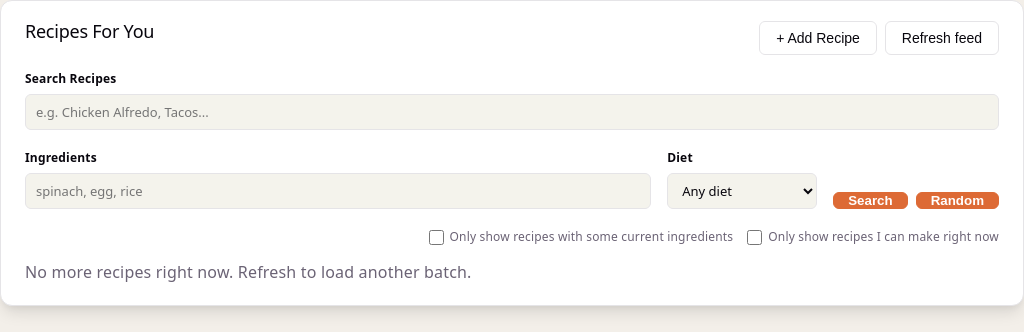
RecipesPanel › handles onlyMakeNow mutually excluding onlyCurrentIngredients
The image size is (1024, 332).
Click the checkbox labelled "Only show recipes with some current ingredients".
click(436, 237)  # box [428,230,444,245]
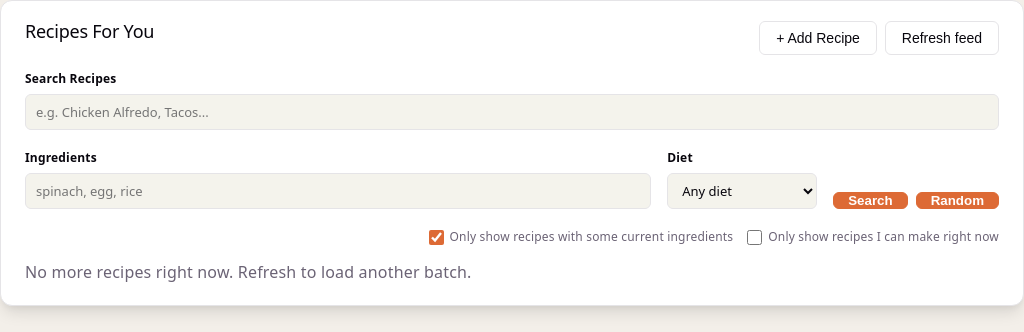
Expected: the checkbox labelled "Only show recipes with some current ingredients" is checked, [428,230,444,245]
Click the checkbox labelled "Only show recipes I can make right now".
click(755, 237)  # box [747,230,762,245]
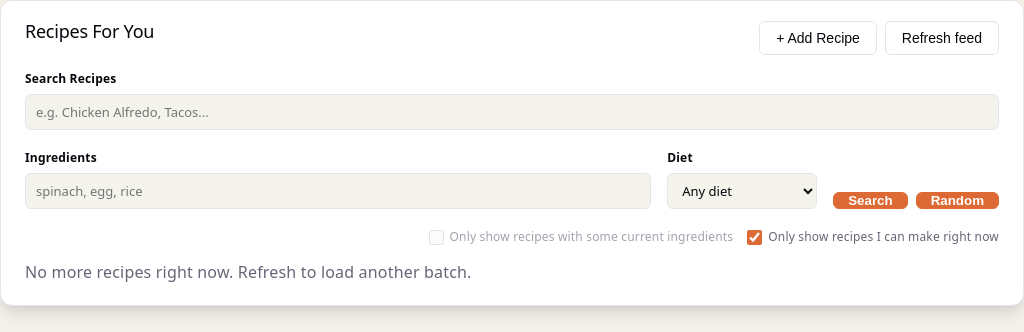
Expected: the checkbox labelled "Only show recipes I can make right now" is checked, [747,230,762,245]
Expected: the checkbox labelled "Only show recipes with some current ingredients" is not checked, [428,230,444,245]
Expected: the checkbox labelled "Only show recipes with some current ingredients" is disabled, [428,230,444,245]
